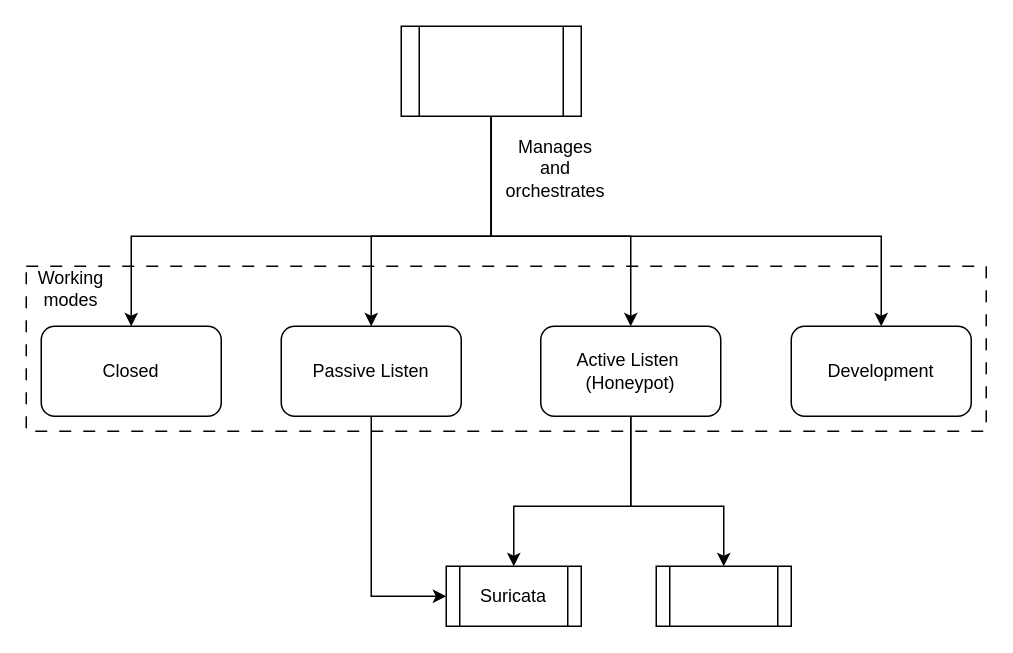
This 1013x653 diagram has some shape labels left out. The shapes that lost their labels are listed below. From the top down, each one's centre as x and y in pixels, then its label:
At point 490,70: "Main Controller".
At point 723,595: "Cowrie".
